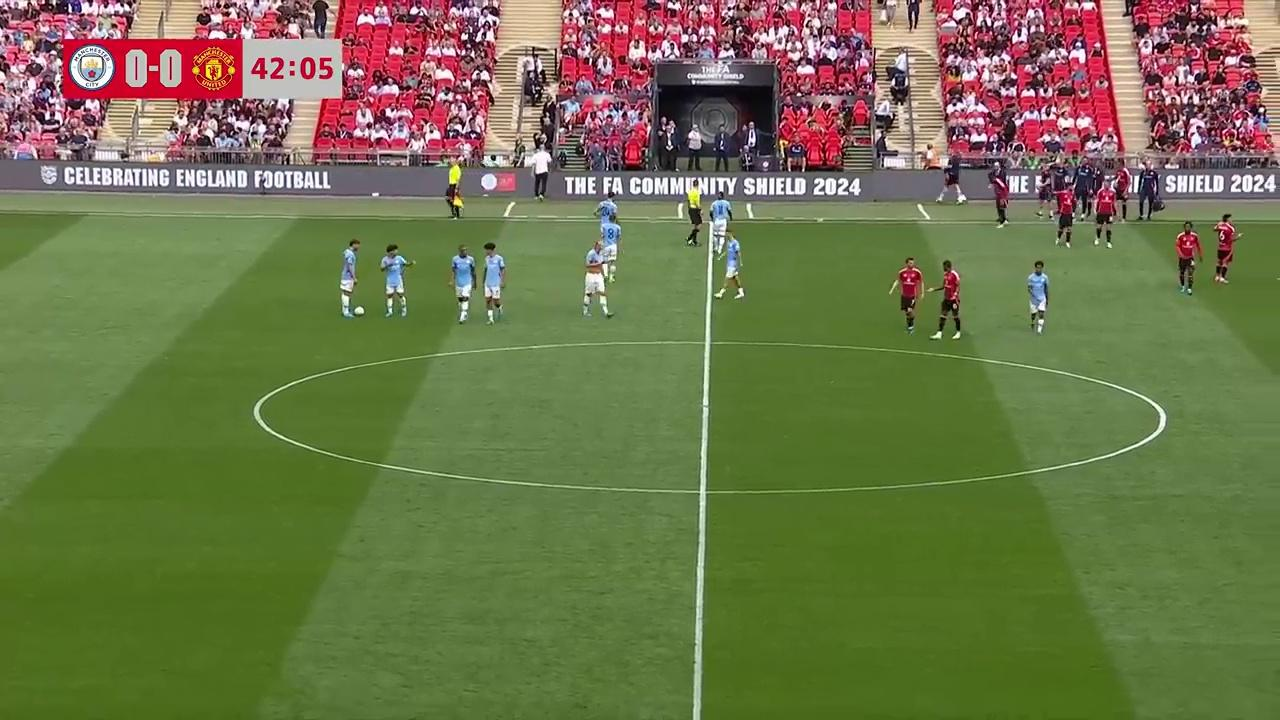player: (379, 243, 415, 319), (889, 256, 925, 332), (581, 243, 614, 318), (932, 260, 962, 339), (593, 195, 622, 269), (449, 243, 476, 322), (716, 229, 745, 299), (1175, 221, 1202, 295), (482, 242, 506, 323), (1213, 213, 1240, 284), (339, 238, 361, 316), (1026, 260, 1049, 334), (593, 216, 619, 280), (708, 194, 731, 255), (1093, 189, 1113, 247), (1053, 193, 1074, 247), (991, 171, 1010, 226), (1115, 167, 1131, 223)
referee: (685, 180, 706, 246), (445, 159, 465, 219)
